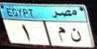1: (21, 23, 32, 42)
meem: (56, 26, 67, 43)
noon: (70, 27, 82, 43)
